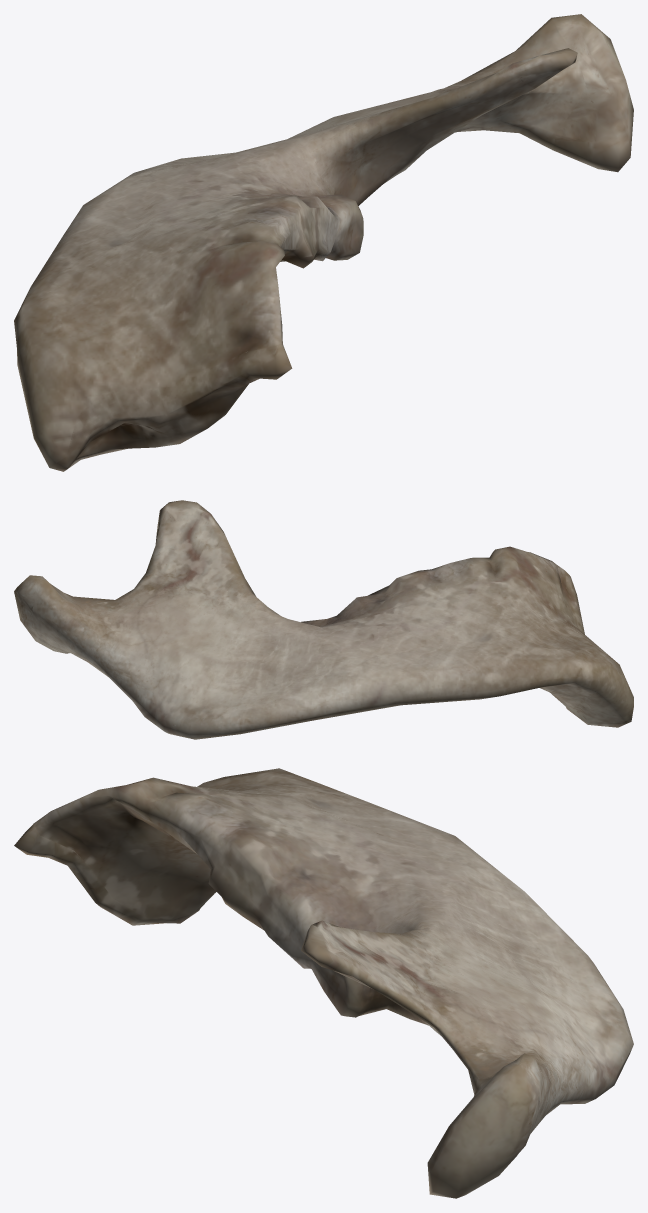
Rendered from SM_Bone04.fbx.
3 renders of one model, top to bottom at view 1: azimuth 30°, elevation 25°; view 2: azimuth 150°, elevation 25°; view 3: azimuth 270°, elevation 25°, orthographic. The views are drawn at different scales.
Visible parts, largest first — view 1: SM_Bone04_LOD0; view 2: SM_Bone04_LOD0; view 3: SM_Bone04_LOD0.
Boxes of the visible parts, x1=… form: SM_Bone04_LOD0: x1=14, y1=14, x2=633, y2=471; SM_Bone04_LOD0: x1=14, y1=500, x2=633, y2=739; SM_Bone04_LOD0: x1=14, y1=768, x2=633, y2=1198.
Bounding box in the file's own units: 17 × 11.84 × 5.26.
